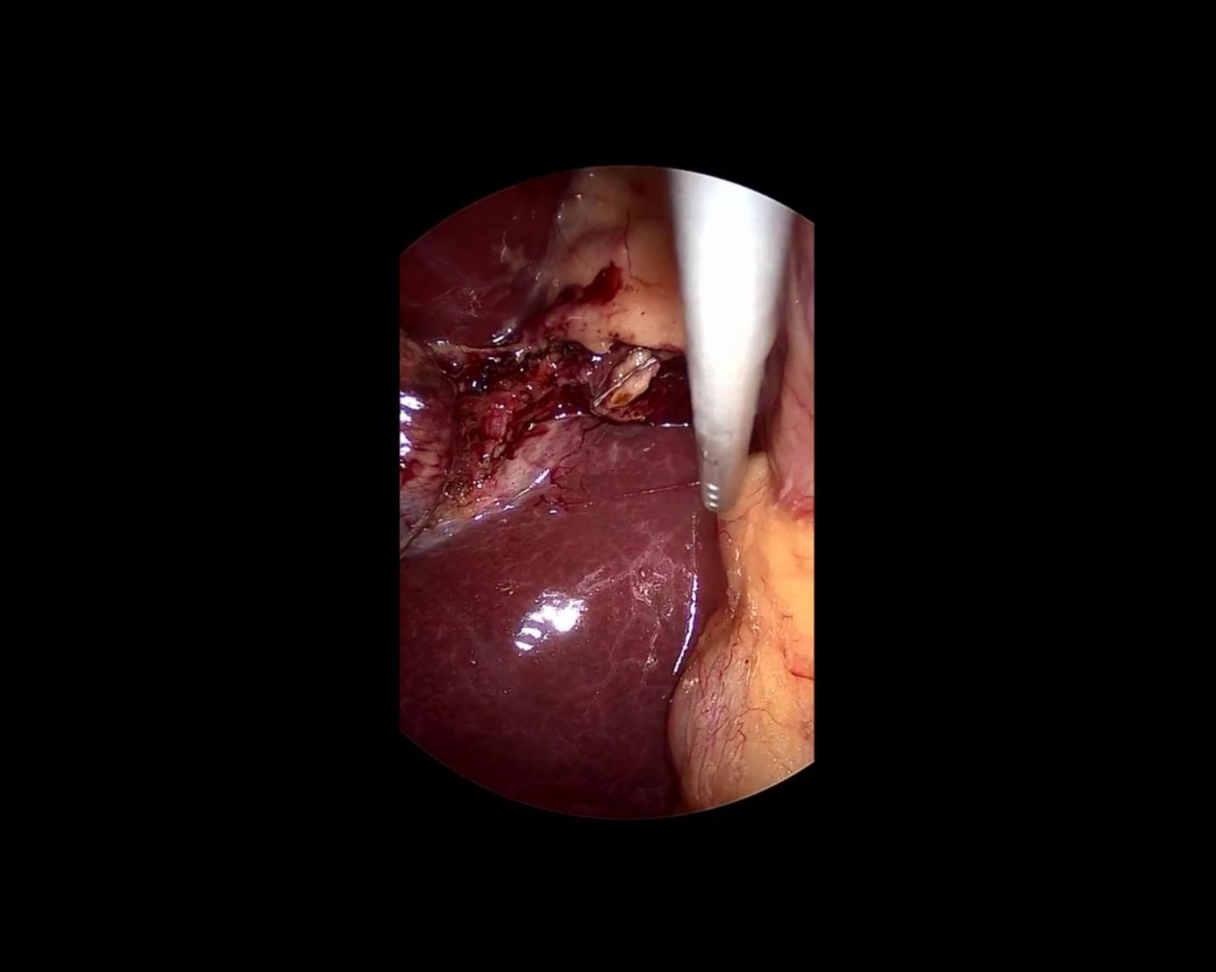Gallbladder: (401, 330, 455, 554)
Liver: (381, 401, 740, 823), (670, 160, 817, 510), (380, 135, 567, 364)
